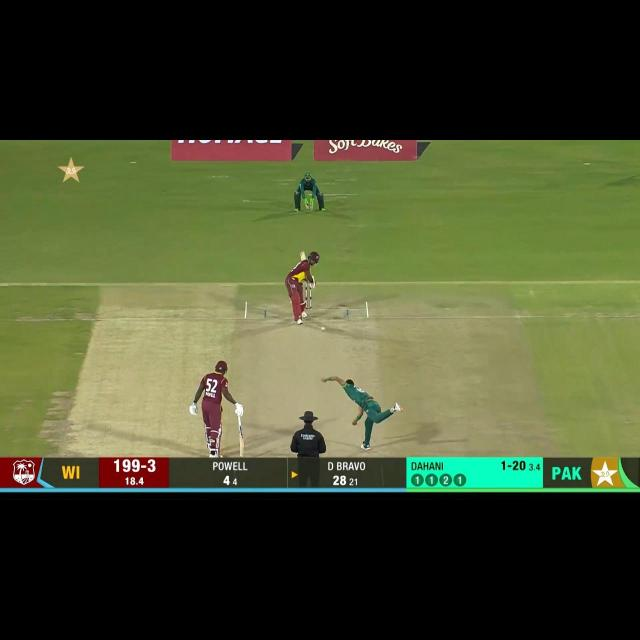bat: (238, 428, 246, 458), (300, 251, 307, 262)
toe: (236, 451, 245, 458), (300, 251, 306, 260)
